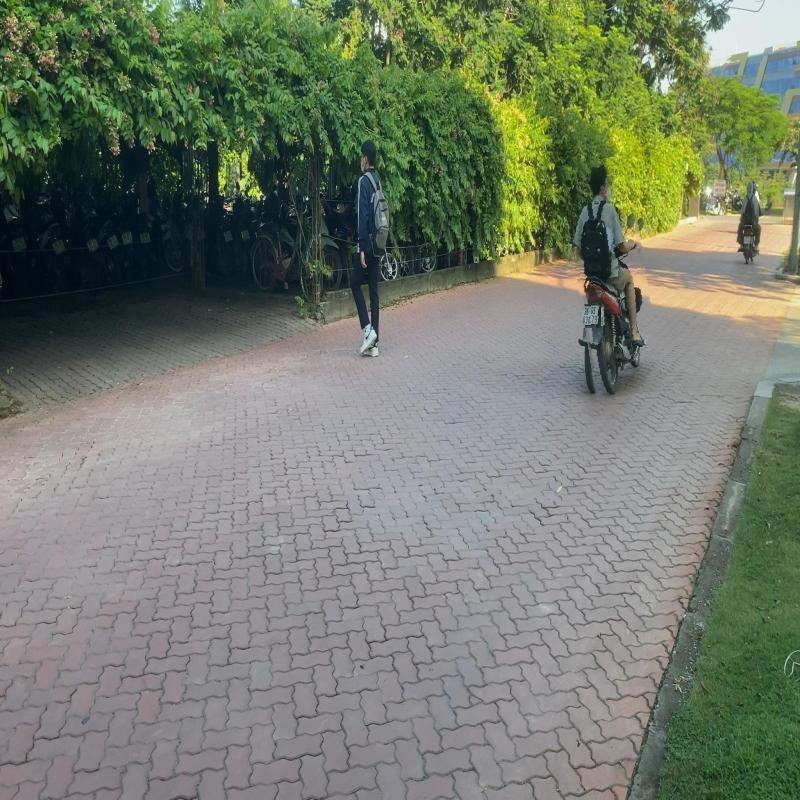licenseplate: (580, 303, 601, 328)
motorcyclist: (568, 157, 655, 398)
nohelmet: (601, 160, 627, 206)
